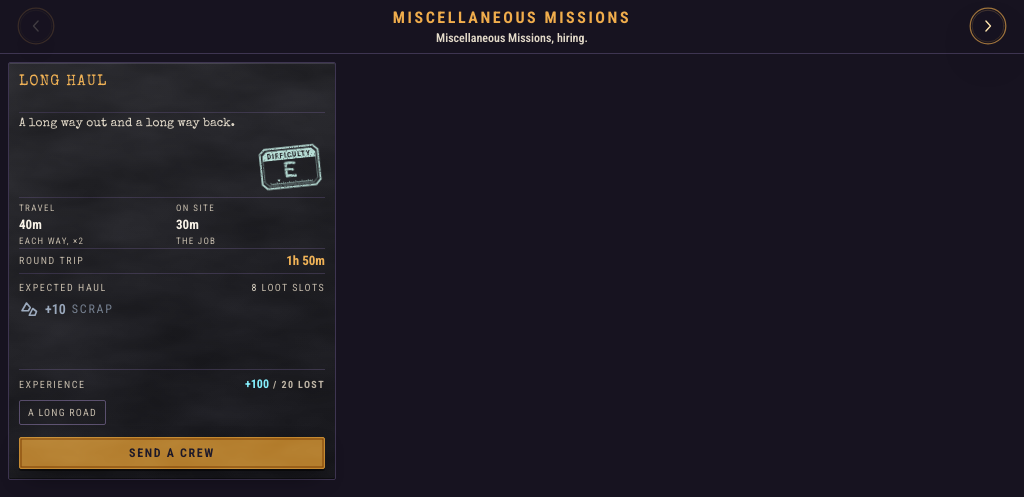
Test: the board on show › prints a refusal only on the card on the board it was about
Expected: the text "No crew free" is not shown
Click the button with test id "board-right" at [988, 26], box [968,6,1008,46]
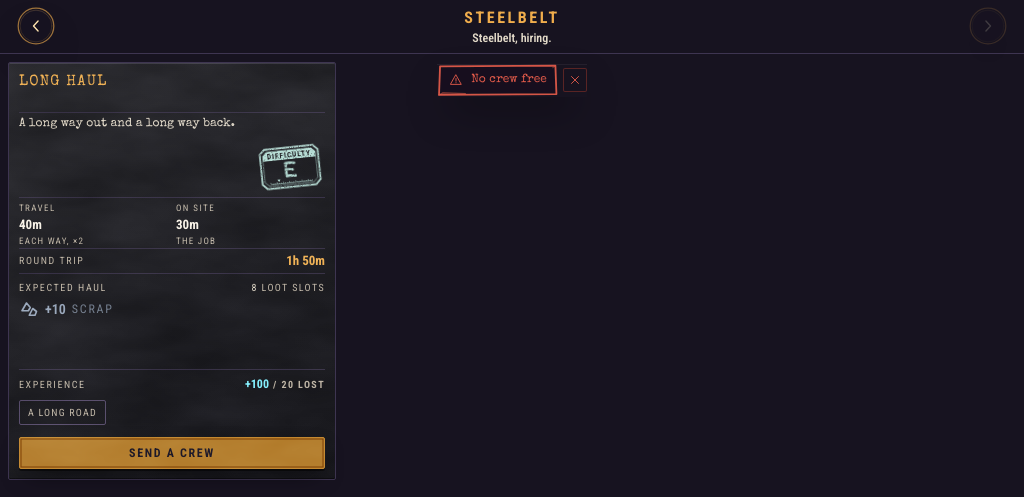
Result: the text "No crew free" is shown at [471,72,547,88]
